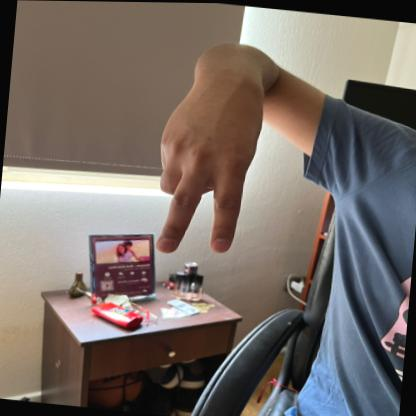N: (146, 69, 270, 265)
